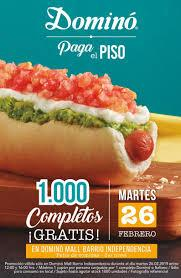Completos: (0, 62, 163, 184)
